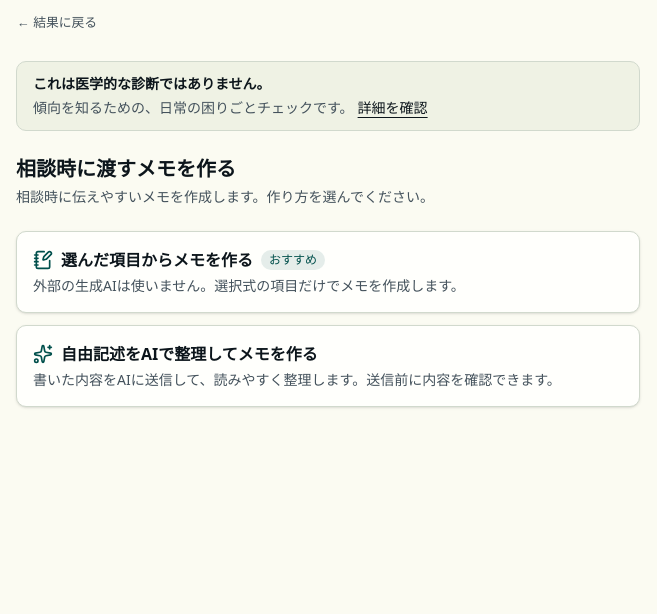
Scenario: PreparePage › 「自由記述をAIで整理してメモを作る」を選ぶと AiSummarySection が autoStart 表示される
Click the text "自由記述をAIで整理してメモを作る" at (175, 354), box [33,342,318,366]
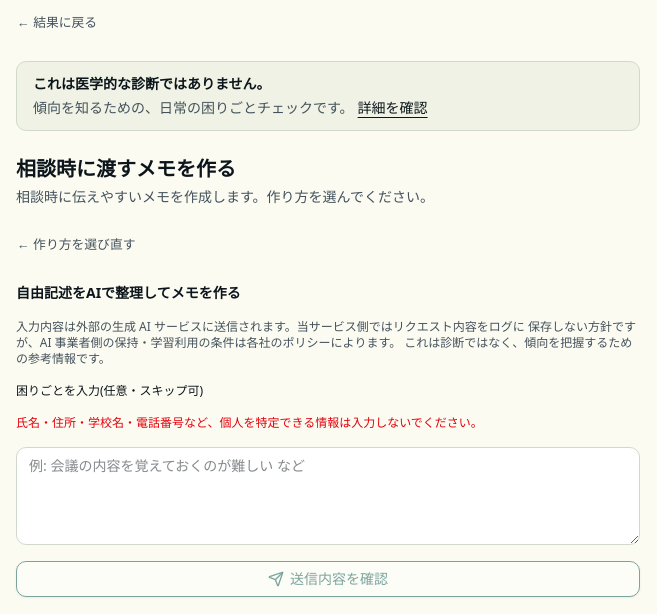
Expected: the text box labelled "困りごとを入力(任意・スキップ可)" is shown, [16,447,640,545]
Expected: the button "選んだ項目からメモを作る" is gone
Expected: the button "← 作り方を選び直す" is shown, [16,231,136,259]
